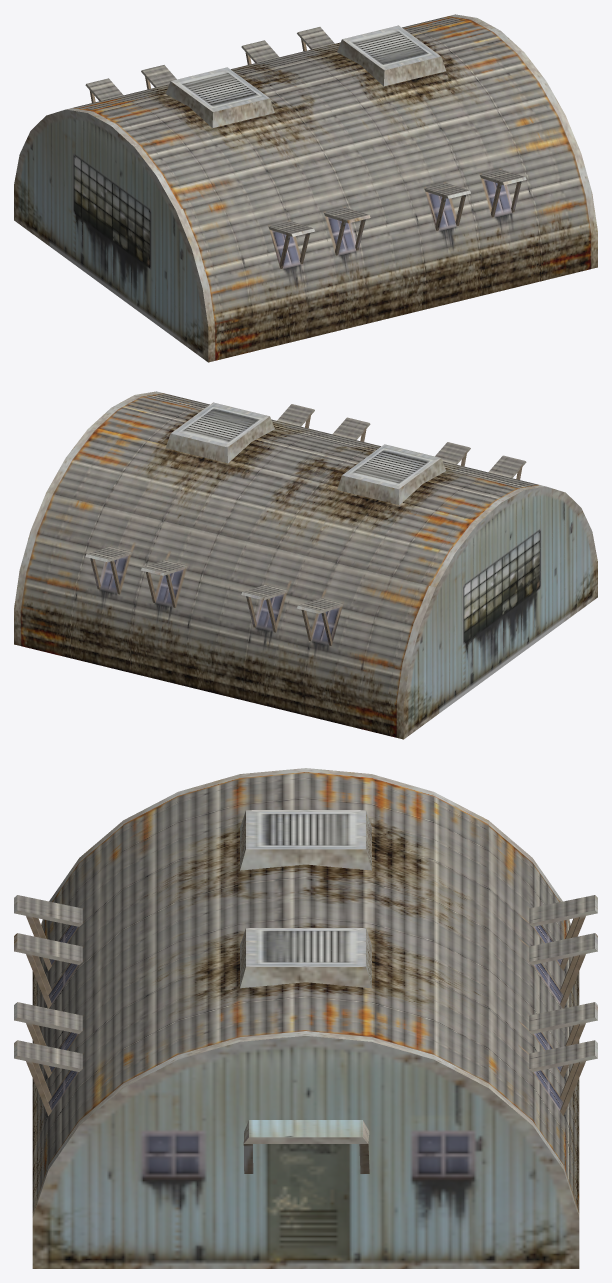
Rendered from fldbldg.glb.
3 renders of one model, top to bottom at view 1: azimuth 30°, elevation 25°; view 2: azimuth 150°, elevation 25°; view 3: azimuth 270°, elevation 25°, orthographic. The views are drawn at different scales.
Parts seen in each view (by area): view 1: Cylinder001_Barrack Texture Map_0; view 2: Cylinder001_Barrack Texture Map_0; view 3: Cylinder001_Barrack Texture Map_0.
Boxes of the visible parts, x1,y1,x2,y2 form: Cylinder001_Barrack Texture Map_0: (14,14,597,362); Cylinder001_Barrack Texture Map_0: (14,391,597,739); Cylinder001_Barrack Texture Map_0: (14,768,597,1268).
Size of the model in its own units: 11.57 by 4.66 by 10.01.
1 material, 1 textured.
